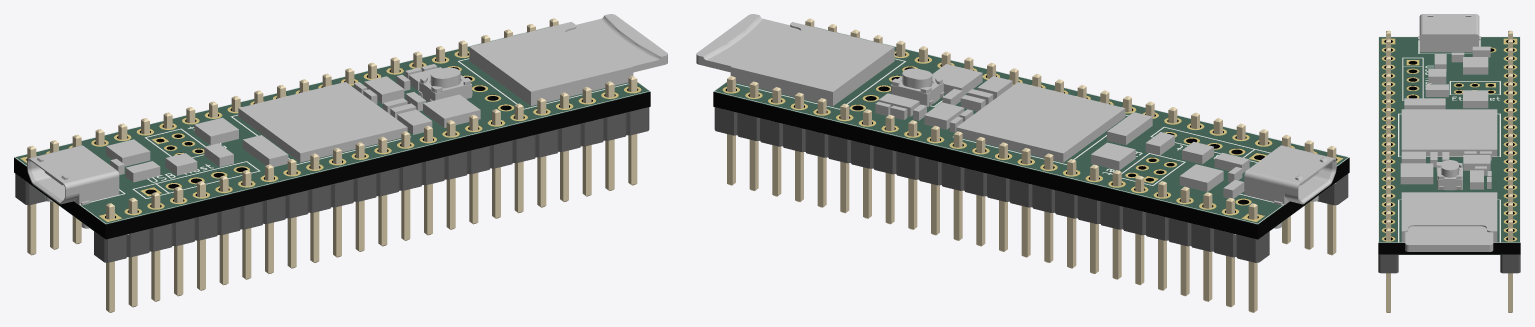
File: teensy41-reference.glb
3 renders of one model, left to right at view 1: azimuth 30°, elevation 25°; view 2: azimuth 150°, elevation 25°; view 3: azimuth 270°, elevation 25°, orthographic. The views are drawn at different scales.
Parts seen in each view (by area): view 1: Teensy41, J2, teensy41-reference_visual_layers_1, teensy41-reference_visual_layers_3, J1, teensy41-reference_visual_layers_2, teensy41-reference_visual_layers_6; view 2: Teensy41, J1, teensy41-reference_visual_layers_1, teensy41-reference_visual_layers_3, J2, teensy41-reference_visual_layers_2, teensy41-reference_visual_layers_6; view 3: Teensy41, teensy41-reference_visual_layers_3, teensy41-reference_visual_layers_1, teensy41-reference_visual_layers_2, J1, J2, teensy41-reference_visual_layers_6.
Part boxes in pixels (left/top/right/bottom): Teensy41: left=27, top=14, right=667, bottom=228; J2: left=94, top=76, right=649, bottom=312; teensy41-reference_visual_layers_1: left=14, top=47, right=650, bottom=239; teensy41-reference_visual_layers_3: left=14, top=27, right=649, bottom=224; J1: left=15, top=18, right=558, bottom=255; teensy41-reference_visual_layers_2: left=20, top=51, right=641, bottom=221; teensy41-reference_visual_layers_6: left=14, top=24, right=649, bottom=223; Teensy41: left=696, top=14, right=1336, bottom=228; J1: left=714, top=76, right=1269, bottom=312; teensy41-reference_visual_layers_1: left=713, top=47, right=1349, bottom=239; teensy41-reference_visual_layers_3: left=713, top=27, right=1349, bottom=224; J2: left=805, top=18, right=1348, bottom=255; teensy41-reference_visual_layers_2: left=722, top=51, right=1342, bottom=221; teensy41-reference_visual_layers_6: left=714, top=24, right=1348, bottom=223; Teensy41: left=1400, top=14, right=1497, bottom=251; teensy41-reference_visual_layers_3: left=1378, top=37, right=1520, bottom=242; teensy41-reference_visual_layers_1: left=1378, top=38, right=1520, bottom=254; teensy41-reference_visual_layers_2: left=1381, top=38, right=1517, bottom=241; J1: left=1500, top=30, right=1520, bottom=312; J2: left=1378, top=30, right=1398, bottom=312; teensy41-reference_visual_layers_6: left=1378, top=36, right=1520, bottom=242.
Size of the model in its own units: 0.0666 by 0.0128 by 0.0178.
